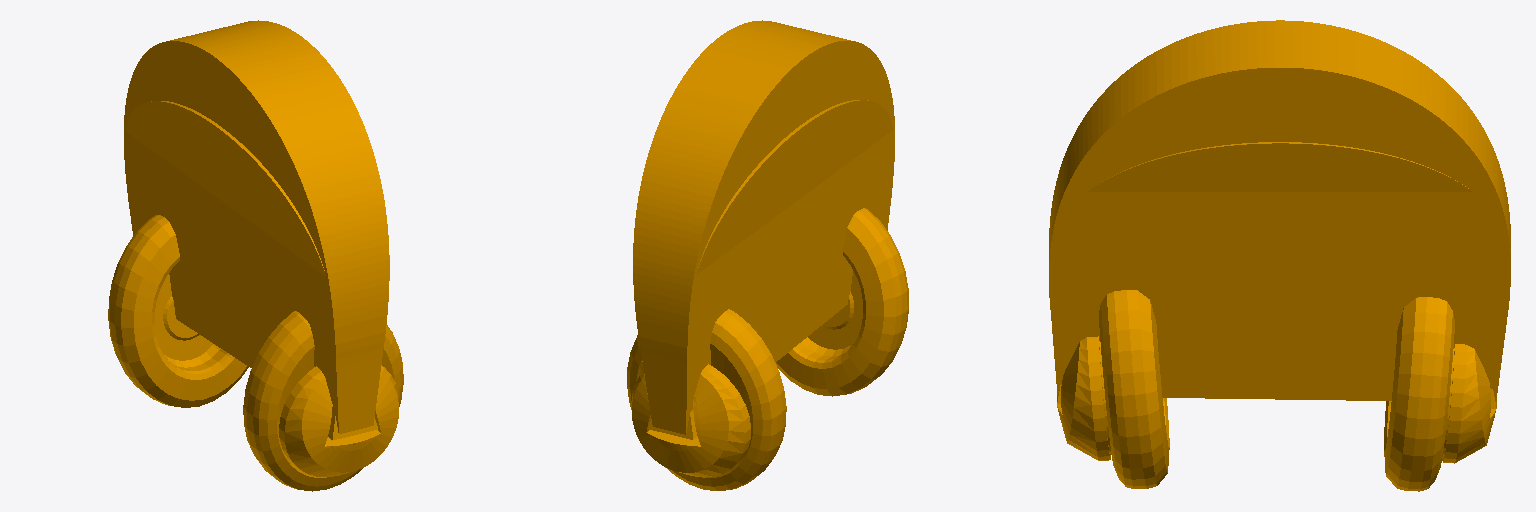
URDF robot description (none):
<robot name="none">
       <link name="none">
           <visual>
               <origin rpy="1.57 0 0" xyz="0 0 0" />
               <geometry>
                   <mesh filename="headphones.obj" />
               </geometry>
           </visual>
          <collision>
              <geometry>
                  <box size="0.410034 1.000000 0.944756" />
              </geometry>
          </collision>

          <inertial>
            <mass value="0.0" />
            <inertia ixx="0.0" ixy="0.0" ixz="0.0" iyy="0.0" iyz="0.0" izz="0.0" />
          </inertial>
      </link>
  </robot>

--- Render facts (derived) ---
The picture shows the robot from 3 angles, left to right: view 1: azimuth 30°, elevation 25°; view 2: azimuth 150°, elevation 25°; view 3: azimuth 270°, elevation 25°; orthographic projection.
Model none with 1 links and 0 joints (none), rooted at none, posed all joints at 0.
Links seen in each view (by area): view 1: none; view 2: none; view 3: none.
Boxes of the visible links, x1=… form: none: x1=108, y1=20, x2=403, y2=491; none: x1=627, y1=20, x2=908, y2=490; none: x1=1049, y1=20, x2=1510, y2=491.
Size in the robot's own frame: 0.41 by 0.9448 by 1 metres.
Meshes: 1 distinct files referenced, 1 mesh visuals loaded (1 OBJ).